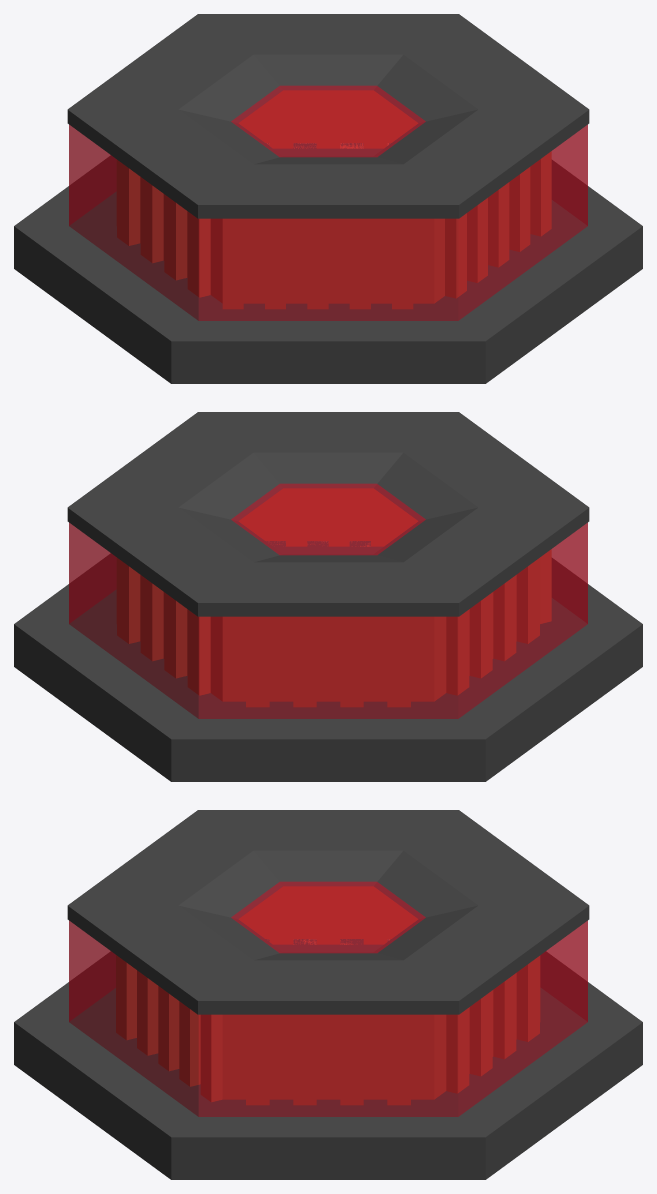
Rendered from Emergency_Light.fbx.
The picture shows the model from 3 angles, top to bottom: view 1: azimuth 30°, elevation 25°; view 2: azimuth 150°, elevation 25°; view 3: azimuth 270°, elevation 25°; orthographic projection.
Visible parts, largest first — view 1: Cylinder.003, Cylinder.004; view 2: Cylinder.003, Cylinder.004; view 3: Cylinder.003, Cylinder.004.
Boxes of the visible parts, x1,y1,x2,y2 form: Cylinder.003: (14, 14, 642, 383); Cylinder.004: (69, 85, 587, 320); Cylinder.003: (14, 412, 642, 781); Cylinder.004: (69, 483, 587, 718); Cylinder.003: (14, 810, 642, 1179); Cylinder.004: (69, 881, 587, 1116).
Size of the model in its own units: 34.64 by 11.18 by 40.
